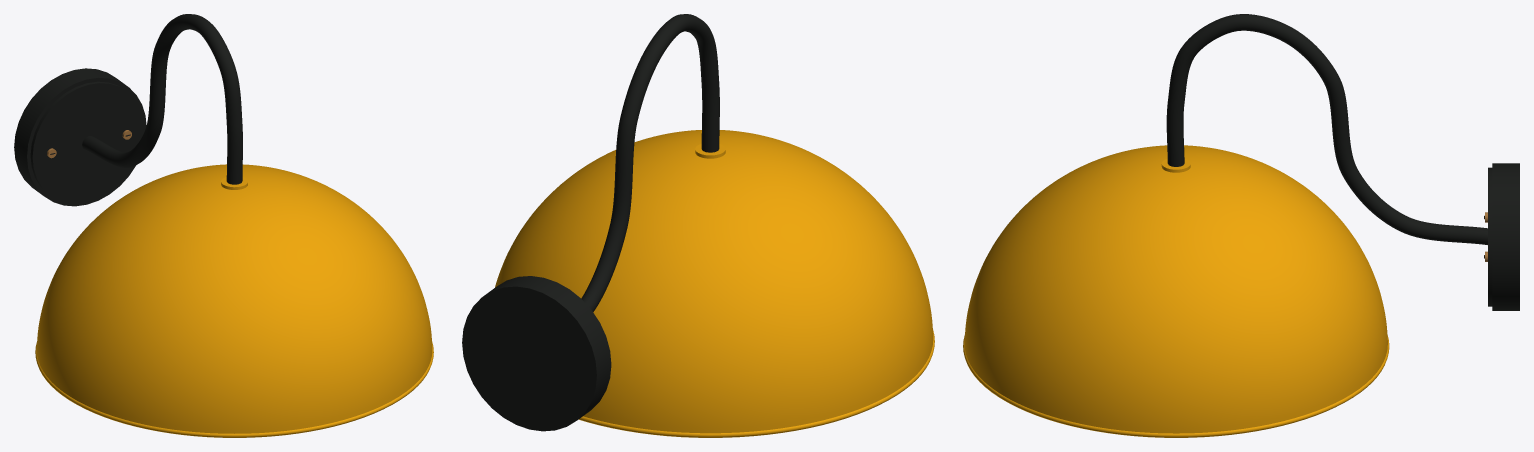
Rendered from 02-yellow-gooseneck.glb.
3 renders of one model, left to right at view 1: azimuth 30°, elevation 25°; view 2: azimuth 150°, elevation 25°; view 3: azimuth 270°, elevation 25°, orthographic. The views are drawn at different scales.
Parts seen in each view (by area): view 1: Yellow domed steel shade, Inset front plate, Continuous curved gooseneck, Round wall mounting plate, Rolled yellow lip; view 2: Yellow domed steel shade, Round wall mounting plate, Continuous curved gooseneck, Rolled yellow lip; view 3: Yellow domed steel shade, Continuous curved gooseneck, Round wall mounting plate, Rolled yellow lip, Inset front plate.
Boxes of the visible parts, <box> form: Yellow domed steel shade: <box>36,164,432,433</box>; Inset front plate: <box>30,81,144,203</box>; Continuous curved gooseneck: <box>82,14,242,184</box>; Round wall mounting plate: <box>14,68,146,206</box>; Rolled yellow lip: <box>35,341,433,437</box>; Yellow domed steel shade: <box>495,130,933,433</box>; Round wall mounting plate: <box>462,276,611,431</box>; Continuous curved gooseneck: <box>581,14,719,311</box>; Rolled yellow lip: <box>579,330,934,437</box>; Yellow domed steel shade: <box>964,145,1387,433</box>; Continuous curved gooseneck: <box>1166,14,1487,244</box>; Round wall mounting plate: <box>1492,163,1519,310</box>; Rolled yellow lip: <box>963,335,1389,437</box>; Inset front plate: <box>1488,167,1492,306</box>.
Size of the model in its own units: 0.294 by 0.2541 by 0.384.
